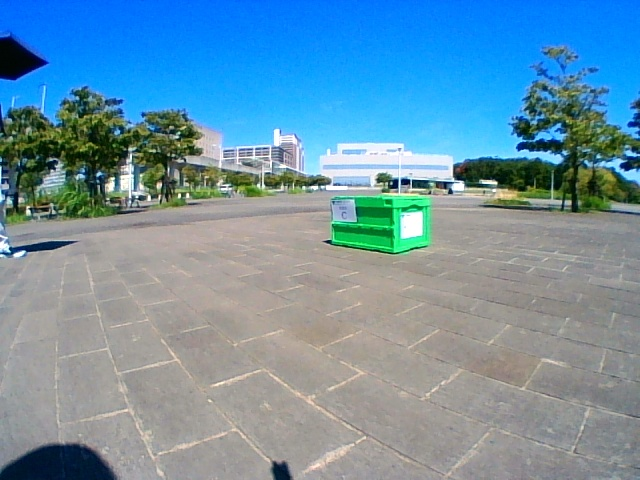green_box: (331, 196, 429, 254)
tag_c: (333, 201, 353, 222)
